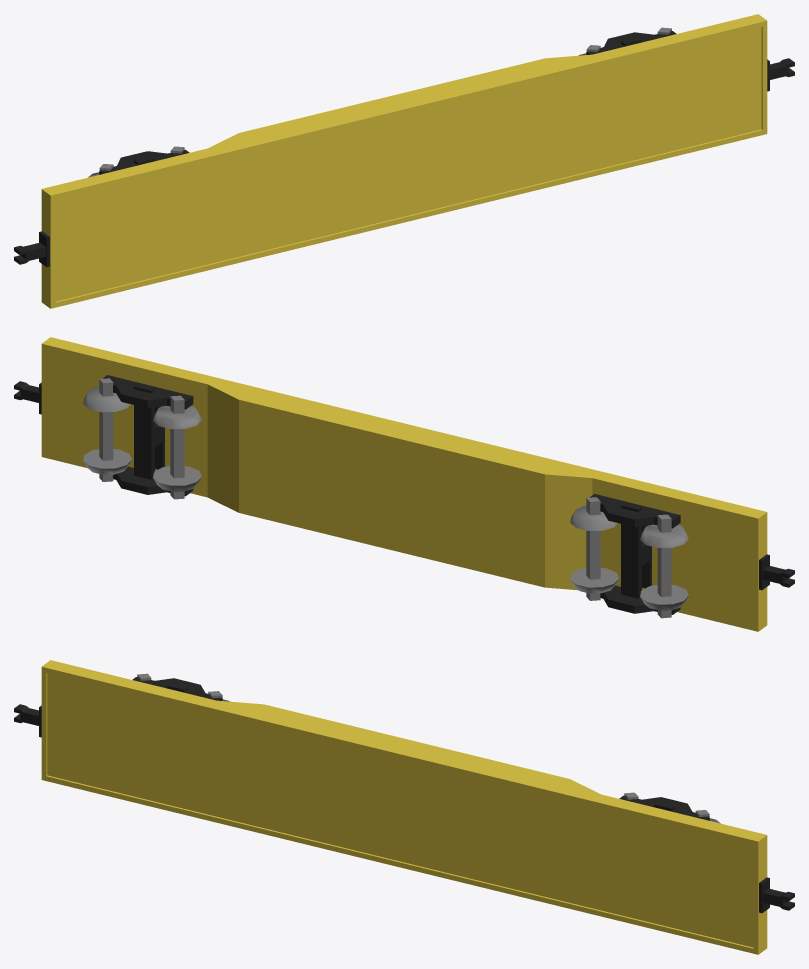
Rendered from plain_flat_car_64.7ft.dae.
The picture shows the model from 3 angles, top to bottom: view 1: azimuth 30°, elevation 25°; view 2: azimuth 150°, elevation 25°; view 3: azimuth 330°, elevation 25°; orthographic projection.
Visible parts, largest first — view 1: coords_ME_ID145_MA_Platform, coords_ME_ID137_MA_Platform, coords_ME_ID67_MA_Frame, coords_ME_ID124_MA_Frame; view 2: coords_ME_ID137_MA_Platform, coords_ME_ID118_MA_Frame, coords_ME_ID59_MA_Frame, coords_ME_ID124_MA_Frame, coords_ME_ID67_MA_Frame, coords_ME_ID40_MA_Wheels, coords_ME_ID99_MA_Wheels, coords_ME_ID93_MA_Wheels, coords_ME_ID34_MA_Wheels, coords_ME_ID81_MA_Wheels, coords_ME_ID20_MA_Wheels, coords_ME_ID105_MA_Wheels (+7 smaller); view 3: coords_ME_ID145_MA_Platform, coords_ME_ID137_MA_Platform, coords_ME_ID124_MA_Frame, coords_ME_ID67_MA_Frame.
Boxes of the visible parts, x1=… form: coords_ME_ID145_MA_Platform: x1=55, y1=27, x2=762, y2=302; coords_ME_ID137_MA_Platform: x1=41, y1=14, x2=767, y2=308; coords_ME_ID67_MA_Frame: x1=586, y1=31, x2=676, y2=54; coords_ME_ID124_MA_Frame: x1=99, y1=149, x2=189, y2=174; coords_ME_ID137_MA_Platform: x1=41, y1=337, x2=767, y2=631; coords_ME_ID118_MA_Frame: x1=621, y1=503, x2=651, y2=598; coords_ME_ID59_MA_Frame: x1=134, y1=384, x2=164, y2=479; coords_ME_ID124_MA_Frame: x1=589, y1=494, x2=680, y2=528; coords_ME_ID67_MA_Frame: x1=103, y1=375, x2=193, y2=409; coords_ME_ID40_MA_Wheels: x1=170, y1=395, x2=184, y2=499; coords_ME_ID99_MA_Wheels: x1=657, y1=514, x2=671, y2=618; coords_ME_ID93_MA_Wheels: x1=586, y1=497, x2=600, y2=600; coords_ME_ID34_MA_Wheels: x1=99, y1=378, x2=113, y2=481; coords_ME_ID81_MA_Wheels: x1=570, y1=568, x2=618, y2=593; coords_ME_ID20_MA_Wheels: x1=83, y1=449, x2=131, y2=474; coords_ME_ID105_MA_Wheels: x1=640, y1=585, x2=688, y2=610; coords_ME_ID145_MA_Platform: x1=46, y1=673, x2=753, y2=948; coords_ME_ID137_MA_Platform: x1=41, y1=660, x2=767, y2=954; coords_ME_ID124_MA_Frame: x1=132, y1=677, x2=222, y2=700; coords_ME_ID67_MA_Frame: x1=619, y1=795, x2=709, y2=820.
Size of the model in its own units: 197 by 27.5 by 15.49.
